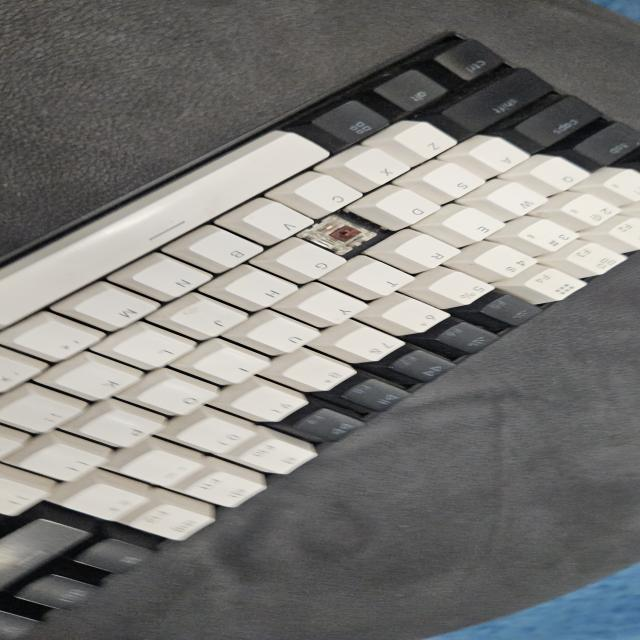C: (326, 224, 369, 246), (320, 224, 366, 244)
